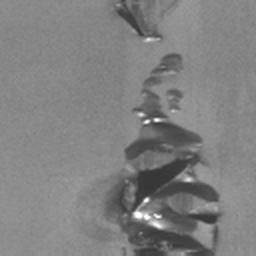Slag inclusion: (104, 52, 220, 256), (114, 0, 164, 44), (166, 88, 184, 114)
